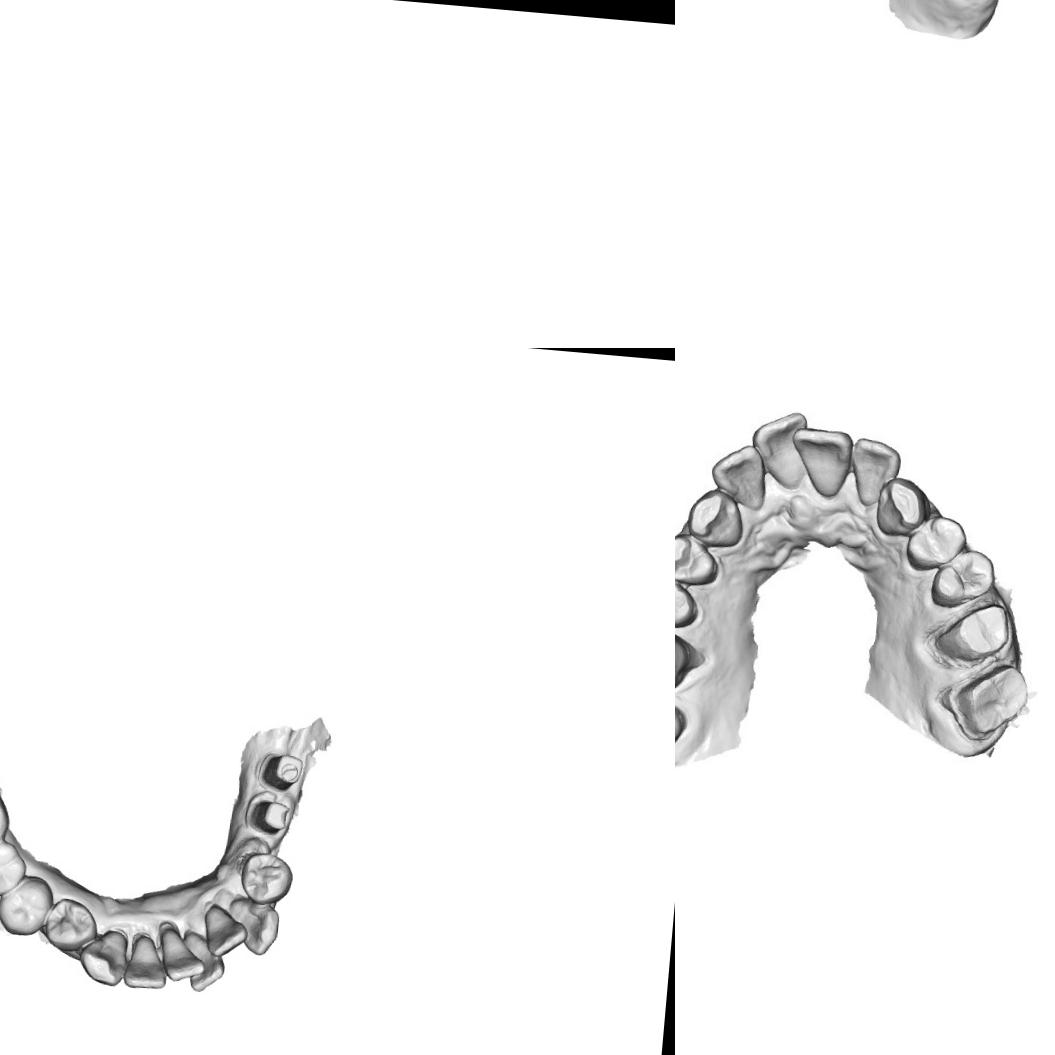abutment: (258, 745, 305, 798), (248, 794, 296, 836)
canine: (870, 473, 928, 538), (224, 894, 282, 958), (75, 926, 134, 988), (685, 488, 745, 548)
crown: (946, 655, 1033, 746), (936, 596, 1015, 667)
incisor: (786, 424, 853, 504), (745, 404, 808, 488), (708, 439, 772, 510), (848, 434, 902, 504), (155, 921, 206, 987), (180, 926, 226, 994), (198, 900, 250, 959), (122, 931, 170, 991)
molar: (0, 836, 29, 899)
premolar: (926, 544, 997, 610), (903, 509, 968, 575), (0, 872, 56, 938), (238, 847, 298, 907), (42, 895, 100, 953), (675, 527, 720, 589), (675, 569, 701, 630)
